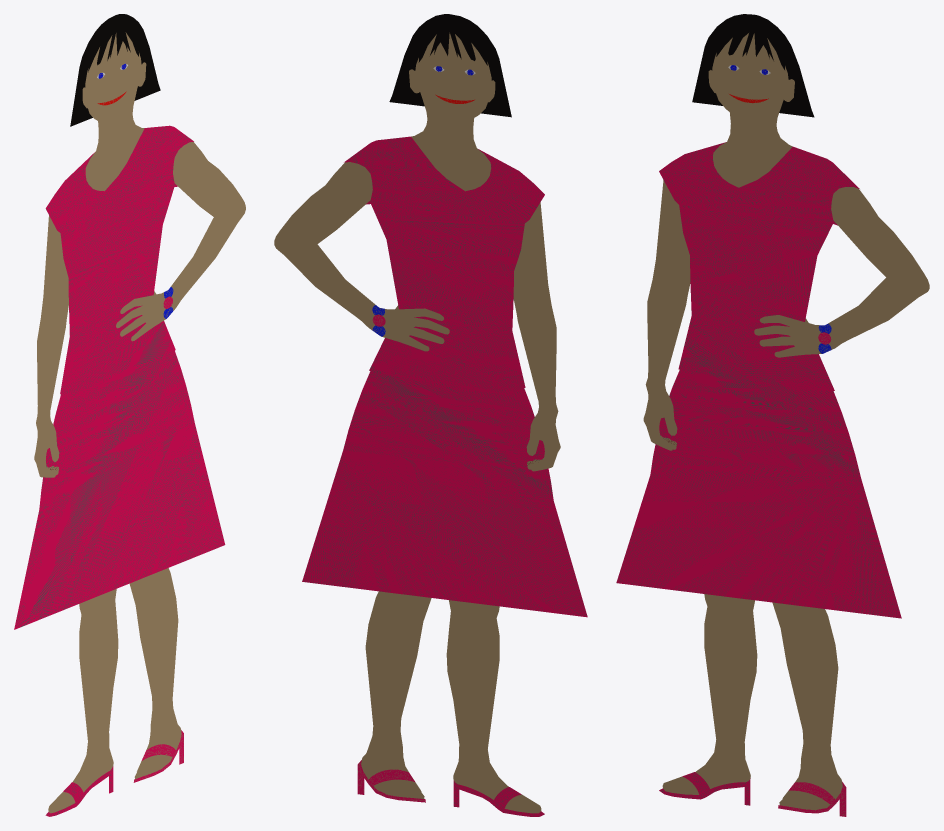
File: women.dae
3 views of the same model, side by side, from view 1: azimuth 30°, elevation 25°; view 2: azimuth 150°, elevation 25°; view 3: azimuth 330°, elevation 25° (orthographic). The views are drawn at different scales.
Visible parts, largest first — view 1: Sophie (×11); view 2: Sophie (×11); view 3: Sophie (×11).
Boxes of the visible parts, <box> form: Sophie (×11): <box>14,14,245,816</box>; Sophie (×11): <box>274,14,587,816</box>; Sophie (×11): <box>616,14,929,816</box>.
Bounding box in the file's own units: 23.7 × 5.74 × 65.24.
